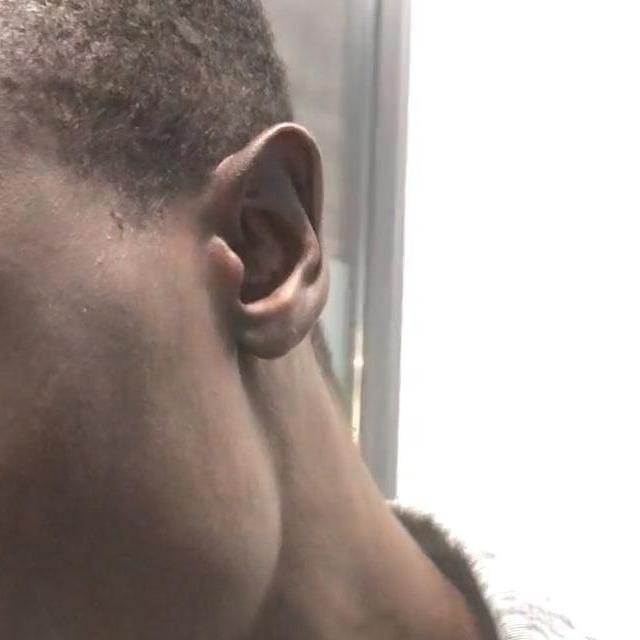NO-Hardhat: (0, 0, 286, 175)
NO-Mask: (0, 420, 281, 640)
Person: (0, 0, 640, 640)
